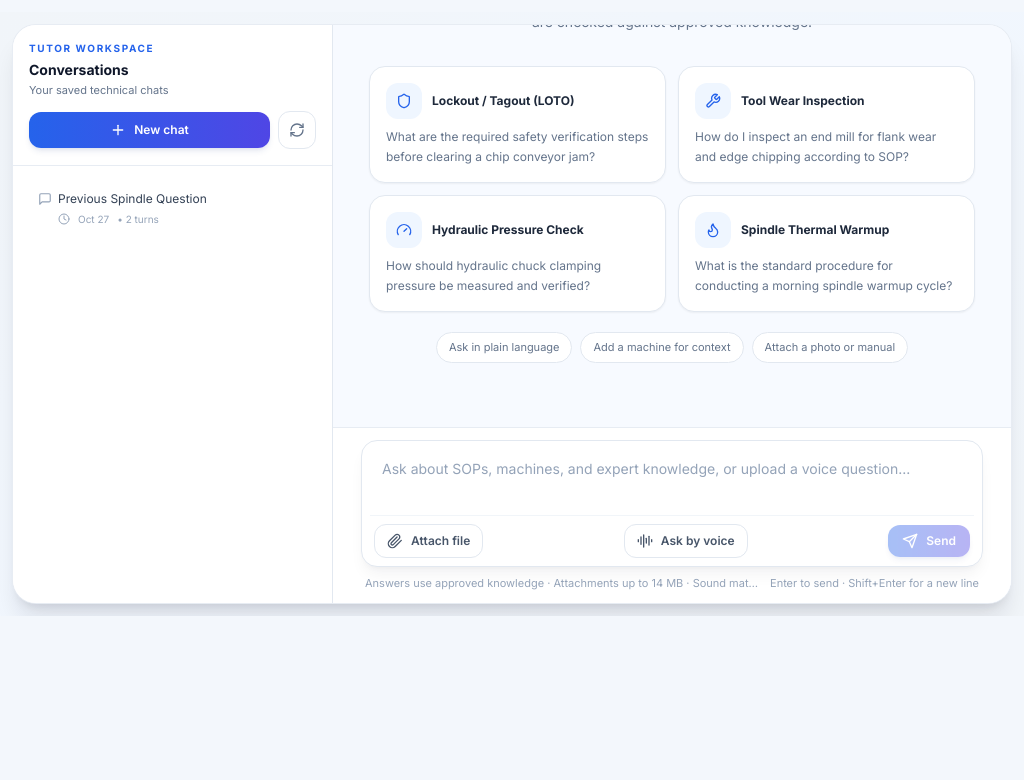
Scenario: AI Knowledge Assistant UI Component Tests › aborts an in-flight stream and removes an empty assistant placeholder
(page scrolled)
In the text box with placeholder "Ask about SOPs, machines": {"x": 672, "y": 478} [370,448,974,508], type "Check this machine"
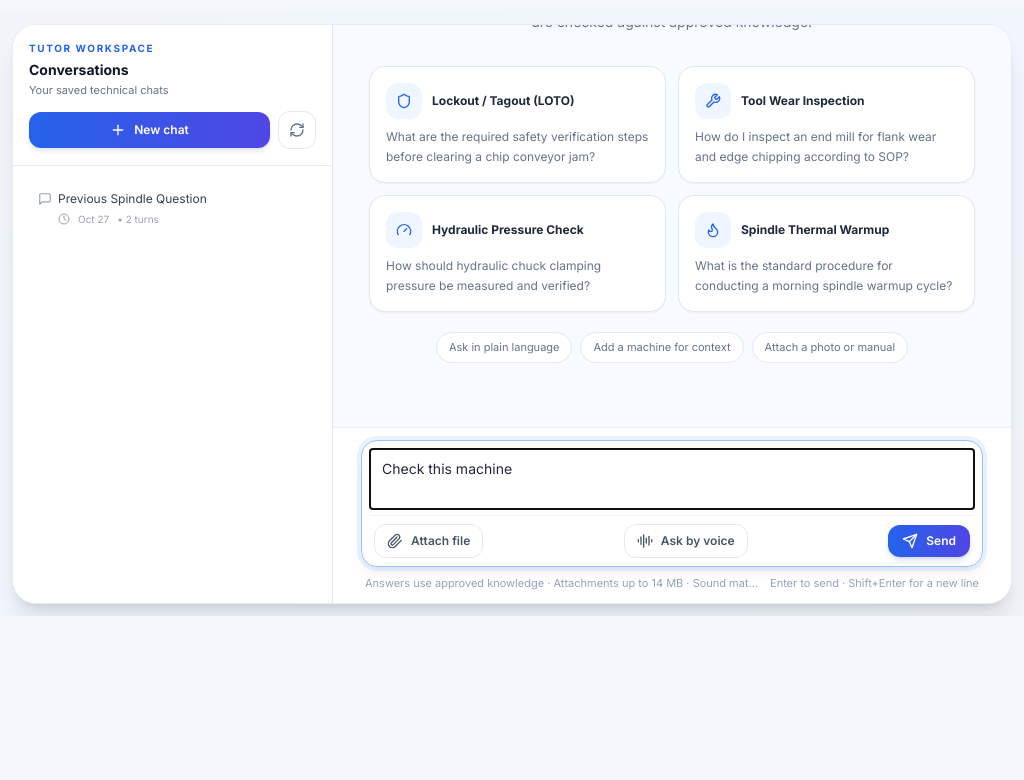
Click the button titled "Send query": {"x": 929, "y": 540} [888,524,970,556]
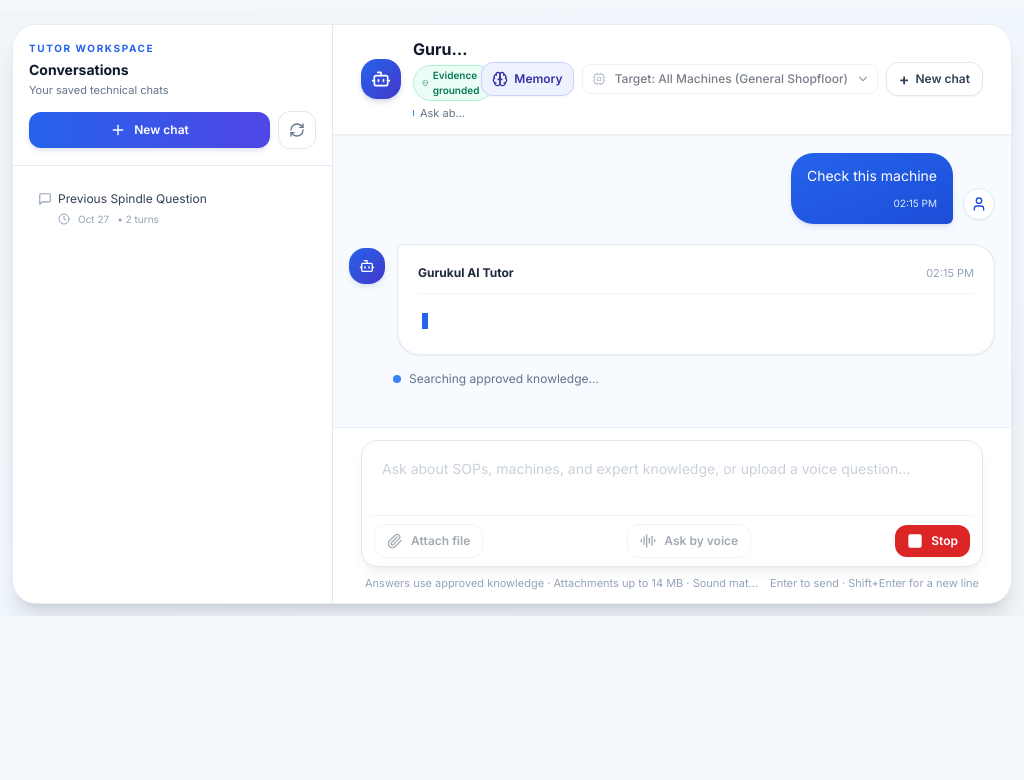
Click the button titled "Stop streaming response": {"x": 933, "y": 540} [895,524,970,556]
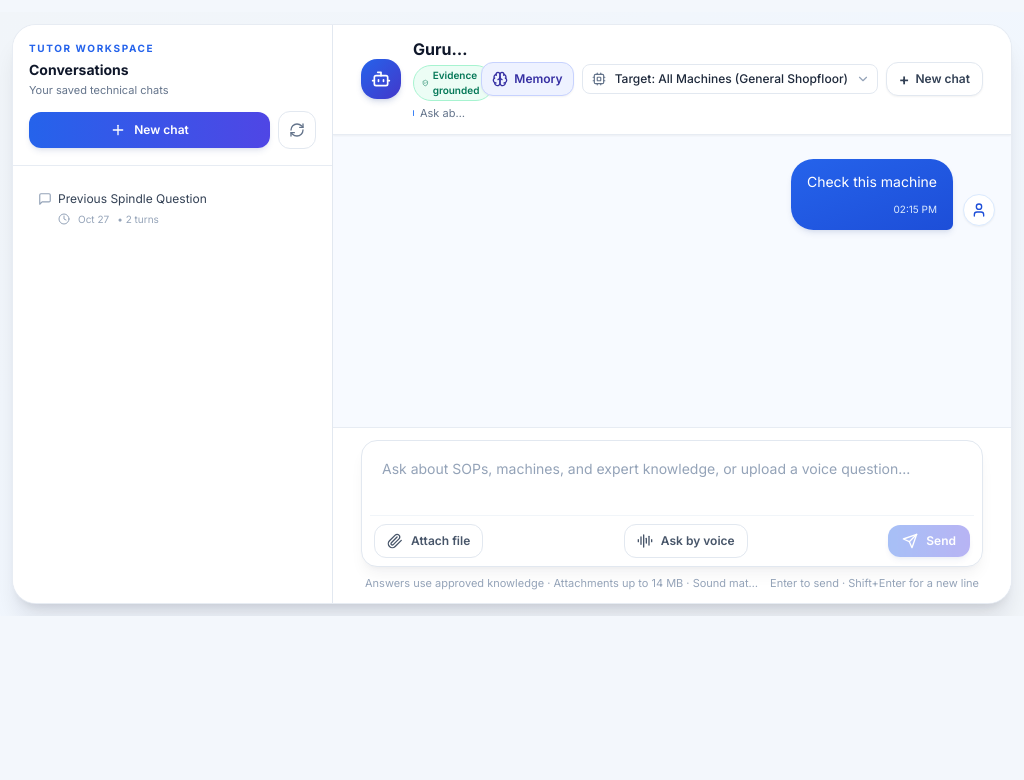
Expected: the text "Check this machine" is shown, [807,170,937,193]
Expected: the button titled "Send query" is shown, [888,524,970,556]
